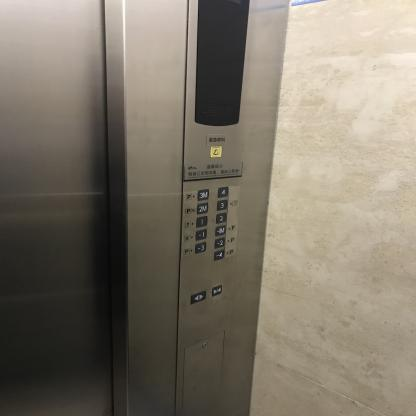-1: (194, 228, 207, 241)
-1M: (214, 224, 226, 236)
-2: (214, 237, 225, 249)
-3: (194, 241, 206, 254)
-4: (213, 249, 224, 261)
1: (195, 215, 208, 228)
2: (215, 212, 227, 224)
2M: (196, 202, 209, 215)
3: (216, 199, 227, 211)
3M: (197, 188, 209, 202)
4: (217, 186, 228, 198)
alarm: (209, 145, 222, 158)
close: (211, 284, 222, 297)
open: (190, 290, 207, 305)
